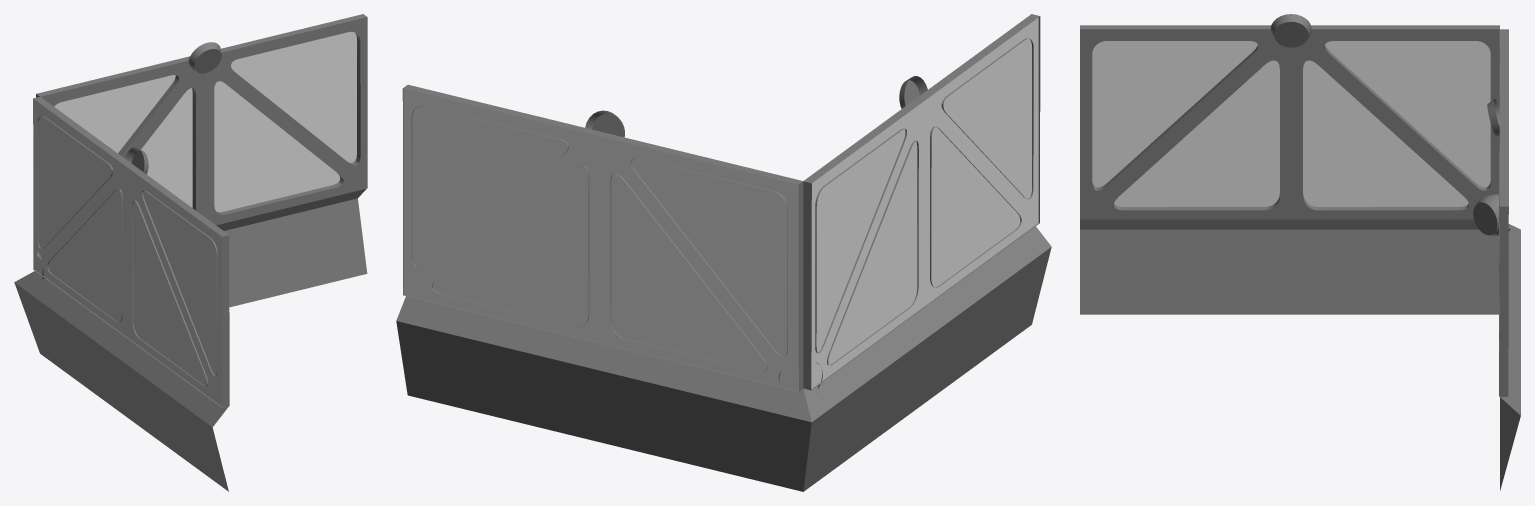
File: q-scifi-mod-wallwindow-corner-square-inner.glb
3 renders of one model, left to right at view 1: azimuth 30°, elevation 25°; view 2: azimuth 150°, elevation 25°; view 3: azimuth 270°, elevation 25°, orthographic. The views are drawn at different scales.
Visible parts, largest first — view 1: WallWindow_Corner_Square_Inner; view 2: WallWindow_Corner_Square_Inner; view 3: WallWindow_Corner_Square_Inner.
Part boxes in pixels (left/top/right/bottom): WallWindow_Corner_Square_Inner: left=14, top=14, right=367, bottom=491; WallWindow_Corner_Square_Inner: left=396, top=14, right=1051, bottom=491; WallWindow_Corner_Square_Inner: left=1080, top=14, right=1520, bottom=490.
Size of the model in its own units: 4.2 by 3.19 by 4.2.
Materials: 4 (3 with a texture image).
